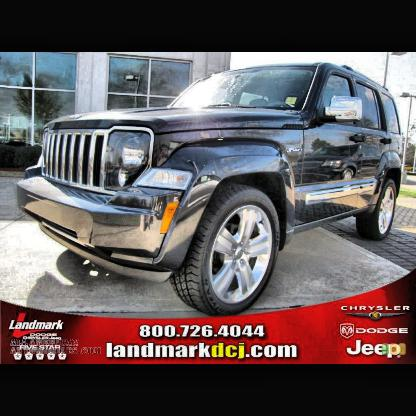Jeep Liberty SUV 2012: (15, 59, 409, 320)
